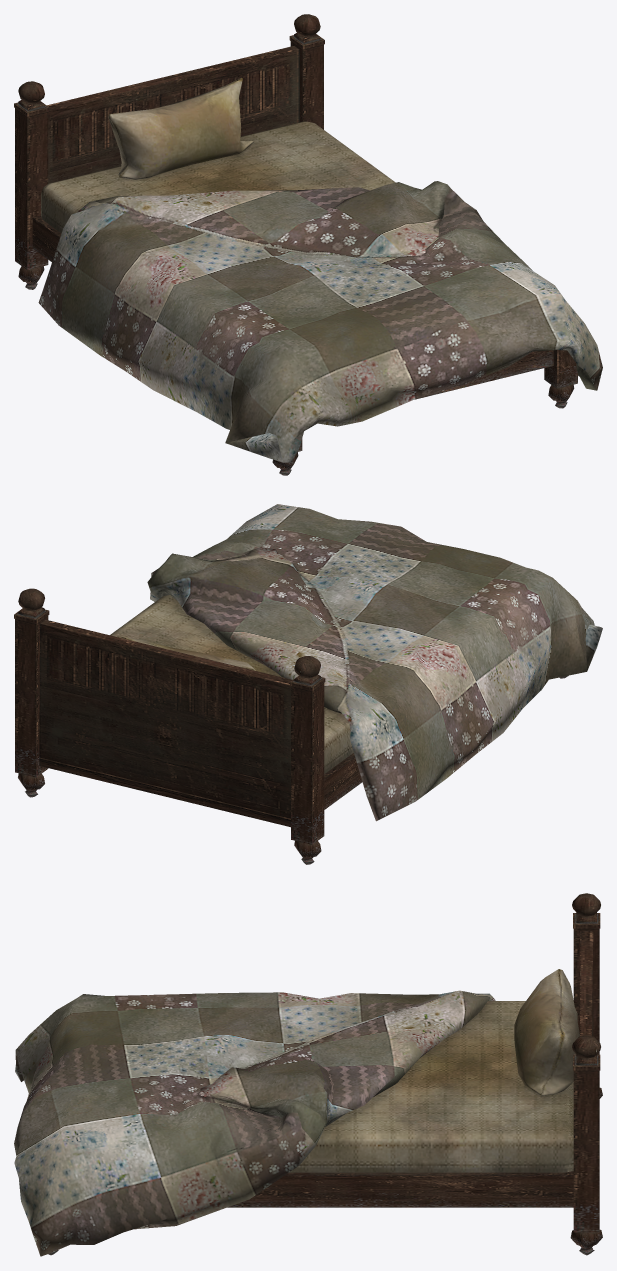
Rendered from Bed.fbx.
3 renders of one model, top to bottom at view 1: azimuth 30°, elevation 25°; view 2: azimuth 150°, elevation 25°; view 3: azimuth 270°, elevation 25°, orthographic. The views are drawn at different scales.
Parts seen in each view (by area): view 1: LODGroup_1_MainMesh_1_SubMesh_1; view 2: LODGroup_1_MainMesh_1_SubMesh_1; view 3: LODGroup_1_MainMesh_1_SubMesh_1.
Part boxes in pixels (x1,y1,x2,y2): LODGroup_1_MainMesh_1_SubMesh_1: (14,14,602,475); LODGroup_1_MainMesh_1_SubMesh_1: (14,504,602,864); LODGroup_1_MainMesh_1_SubMesh_1: (14,893,602,1256).
Size of the model in its own units: 222 by 122 by 301.
